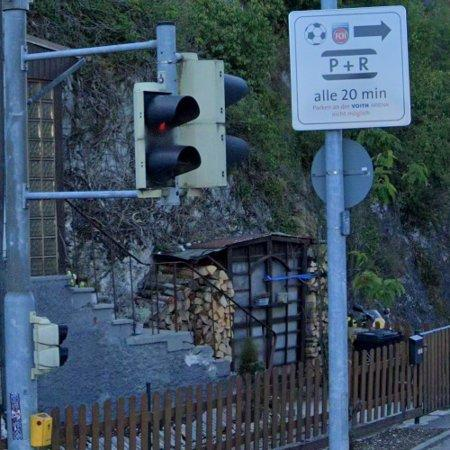traffic lights: (179, 59, 252, 190), (133, 82, 203, 189)
